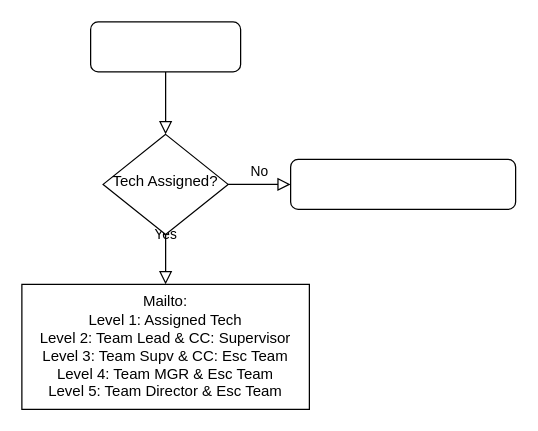
Image size: 538x431. Some labels were removed from this diagram. The shapes that lost their labels are listed below. From the top down, each one's centre as x and y in pixels, then its label:
pixel 165 46: Escalation Request
pixel 402 183: Mailto: Team Supervisor & CC: Escalation Team
